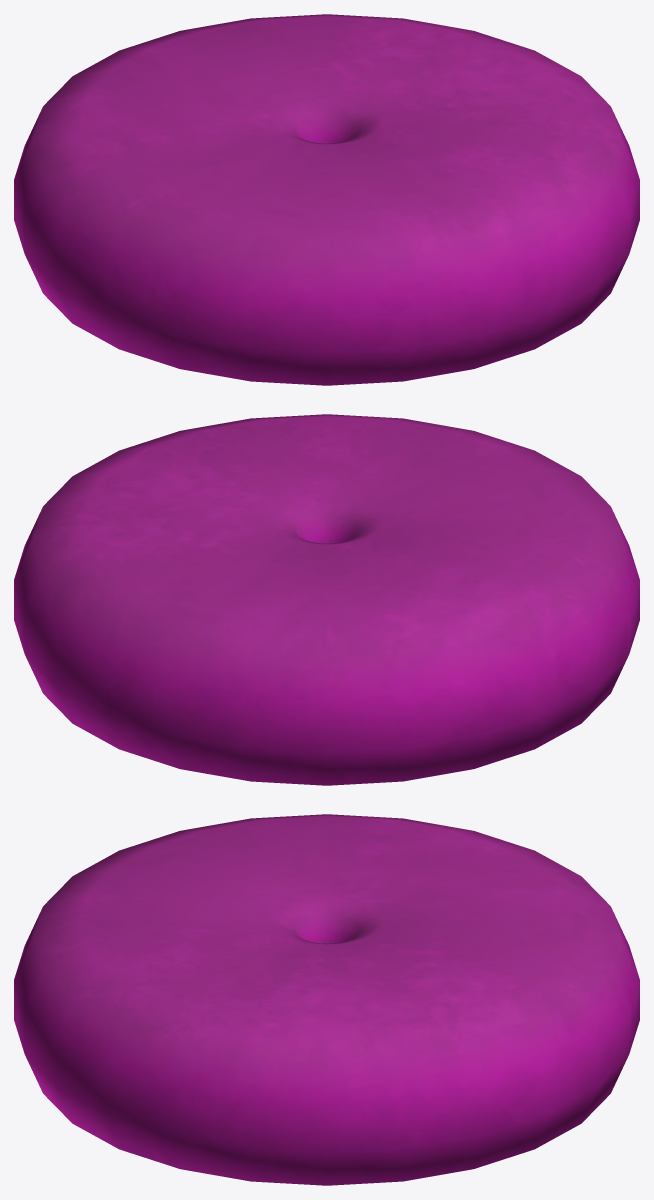
3 renders of one model, top to bottom at view 1: azimuth 30°, elevation 25°; view 2: azimuth 150°, elevation 25°; view 3: azimuth 270°, elevation 25°, orthographic.
Parts seen in each view (by area): view 1: SM_Pyramid_5; view 2: SM_Pyramid_5; view 3: SM_Pyramid_5.
Boxes of the visible parts, x1,y1,x2,y2 form: SM_Pyramid_5: (14,14,639,385); SM_Pyramid_5: (14,414,639,785); SM_Pyramid_5: (14,814,639,1185).
Size of the model in its own units: 10.8 by 3 by 10.8.
Materials: 1 (1 with a texture image).
